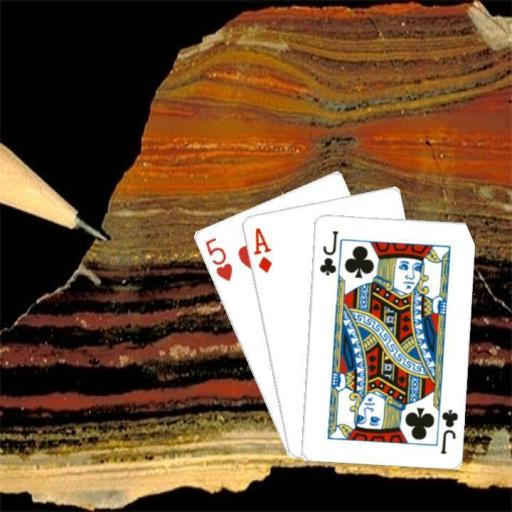card-corner: (201, 234, 234, 282), (436, 406, 460, 455), (250, 224, 273, 274), (316, 226, 339, 276)
